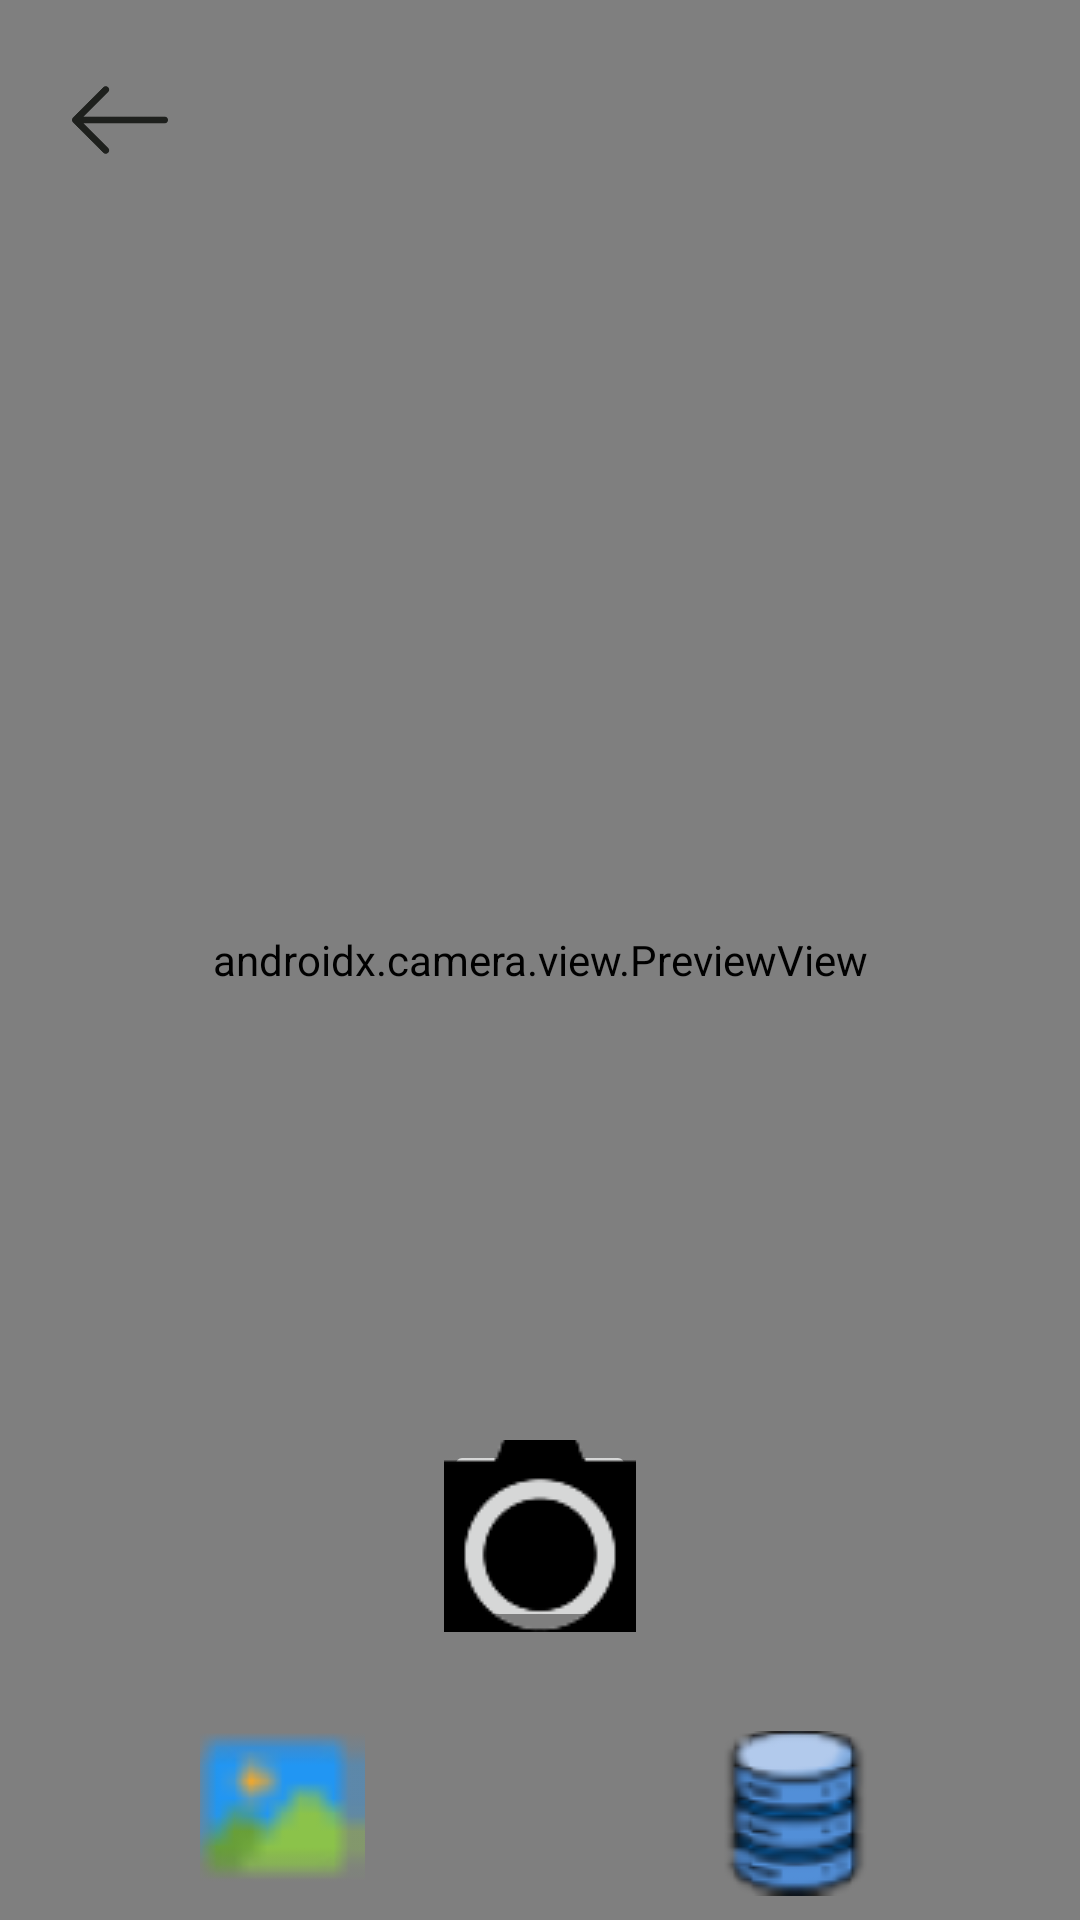

Named icons in this screenshot (1080*1920) and their centers, [x,y]:
Back: [120,120]
Click: [540,1536]
Gallery: [282,1805]
Retrieve: [795,1813]
